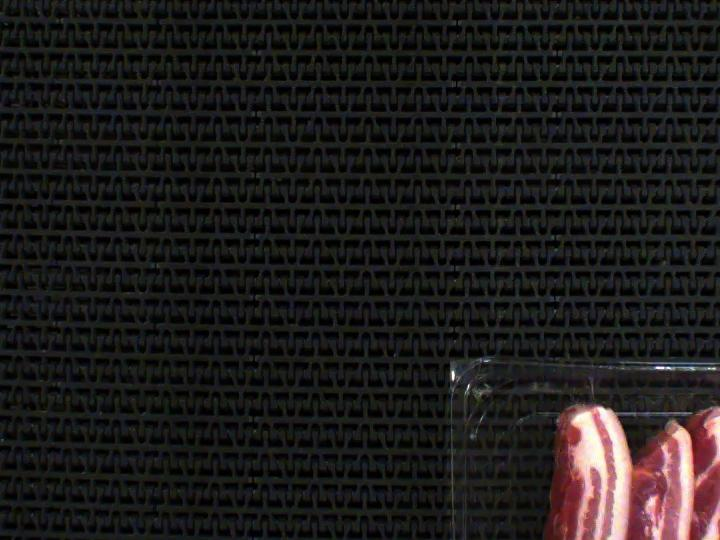packaging-error: (579, 366, 606, 403)
